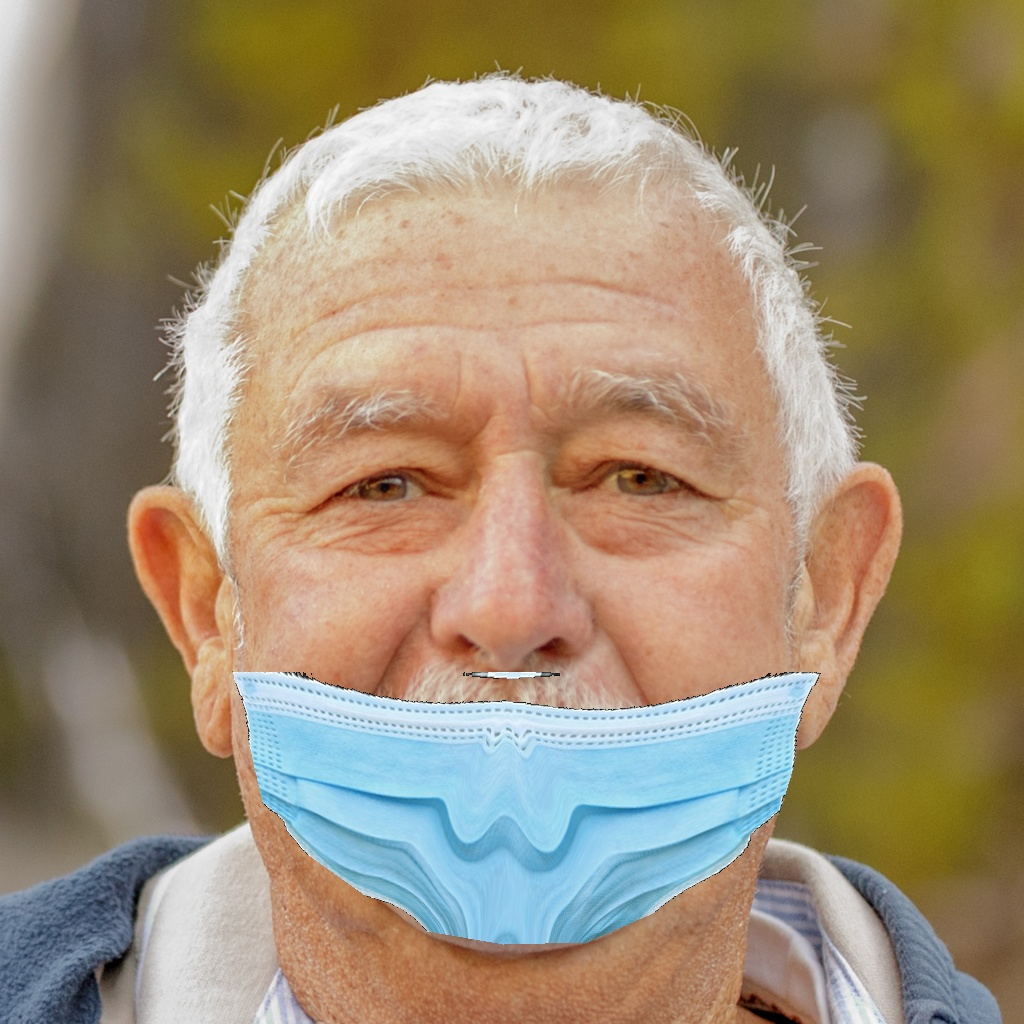mascarilla_mal_puesta: (204, 345, 839, 948)
